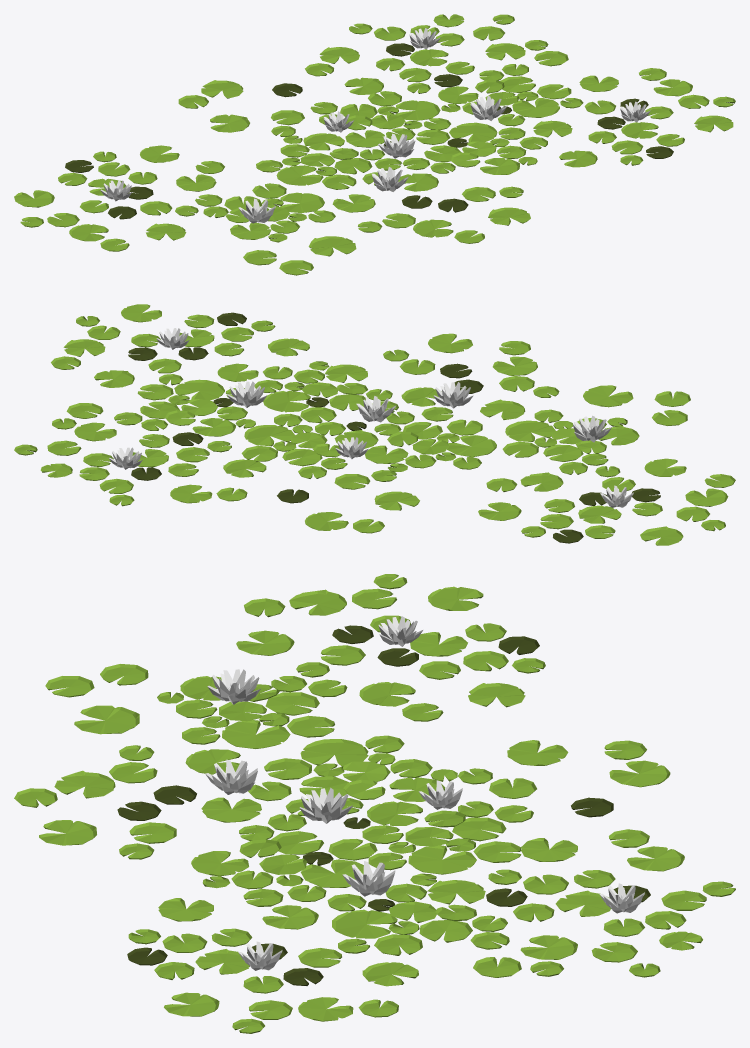
File: SM_Waterlily_Group_E.fbx
3 views of the same model, one above another, from view 1: azimuth 30°, elevation 25°; view 2: azimuth 150°, elevation 25°; view 3: azimuth 270°, elevation 25° (orthographic). The views are drawn at different scales.
Visible parts, largest first — view 1: waterlily-group-e; view 2: waterlily-group-e; view 3: waterlily-group-e.
Boxes of the visible parts, <box> form: waterlily-group-e: <box>14,14,735,275</box>; waterlily-group-e: <box>14,304,735,545</box>; waterlily-group-e: <box>14,574,735,1033</box>.
Bounding box in the file's own units: 6.59 × 0.1777 × 4.39.
